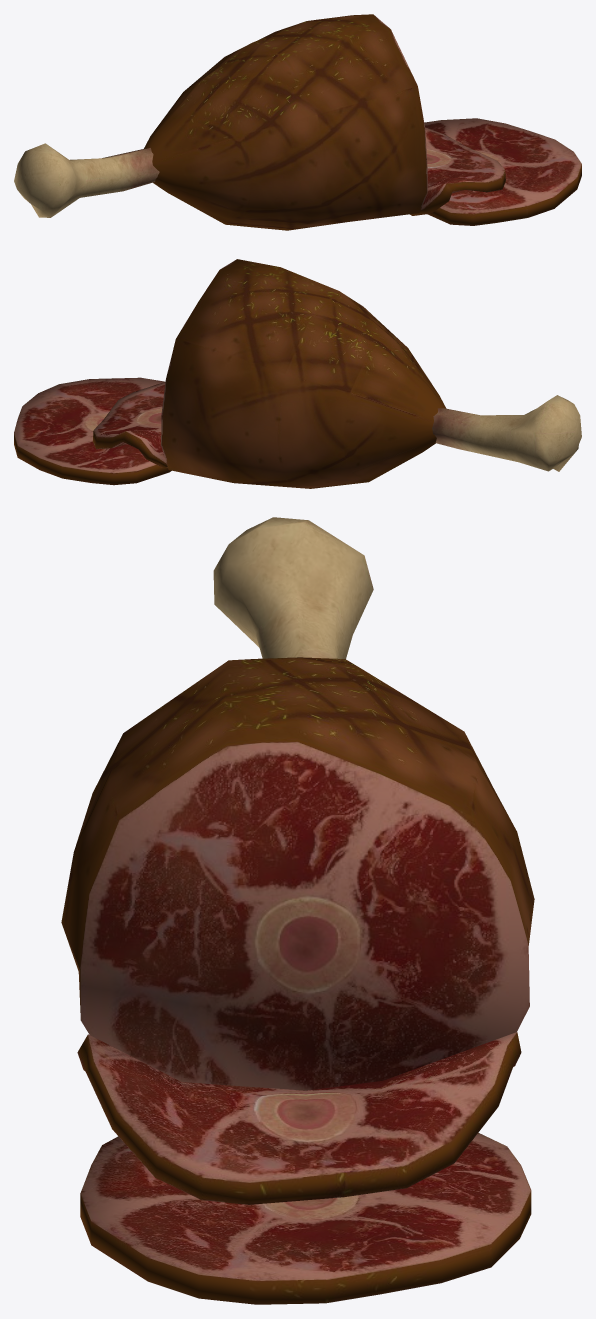
The picture shows the model from 3 angles, top to bottom: view 1: azimuth 30°, elevation 25°; view 2: azimuth 150°, elevation 25°; view 3: azimuth 270°, elevation 25°; orthographic projection. The views are drawn at different scales.
Parts seen in each view (by area): view 1: Okorok; view 2: Okorok; view 3: Okorok.
Part boxes in pixels (x1=…): Okorok: x1=14, y1=14, x2=581, y2=230; Okorok: x1=14, y1=259, x2=581, y2=488; Okorok: x1=61, y1=517, x2=534, y2=1304.
Size of the model in its own units: 2 by 0.6649 by 0.7554.
1 material, 1 textured.
